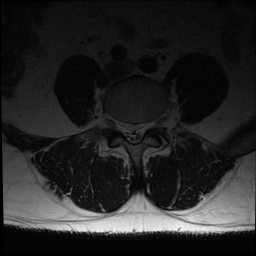CCS_normal: (130, 116, 138, 150)
LFS_normal: (147, 112, 155, 135)
LLS_normal: (138, 116, 146, 143)
RFS_normal: (113, 110, 122, 136)
RLS_normal: (122, 113, 130, 145)
